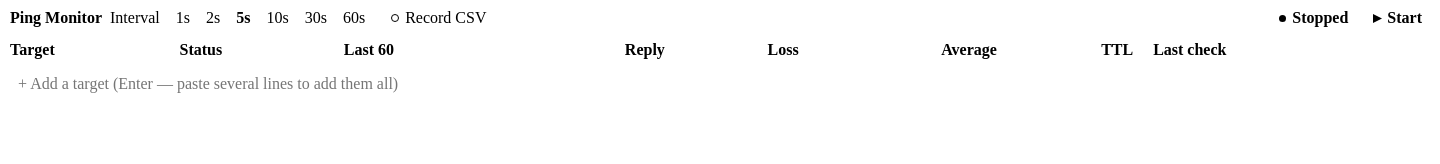
Test case: PingMonitorPane › shows results in words with loss and average from the history
Type "192.0.2.1 sw-01.example.com" into the field labelled "Add a target" at {"x": 720, "y": 84}, box [10, 70, 1430, 98]
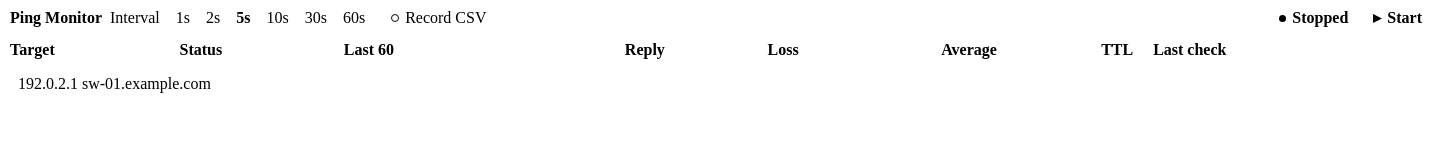
Press Enter in the field named "Add a target", box [10, 70, 1430, 98]
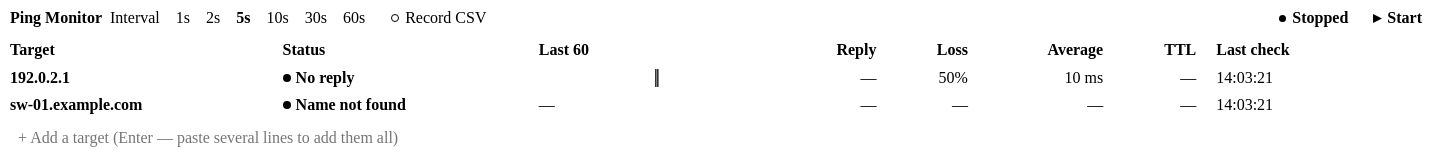
Check: the row "192.0.2.1 No reply — 50% 10 ms — 14:03:21" is shown, box [0, 64, 1439, 91]
Check: the row "sw-01.example.com Name not found — — — — — 14:03:21" is shown, box [0, 91, 1439, 118]
